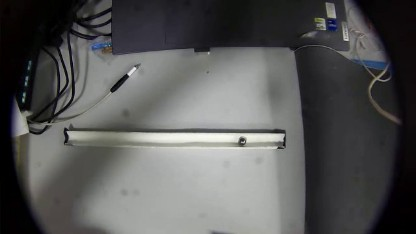gangzhu: (237, 135, 248, 146)
